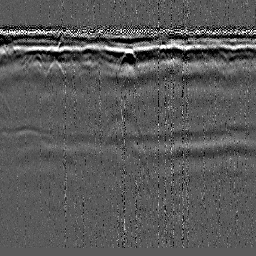cavity: (116, 47, 138, 71)
